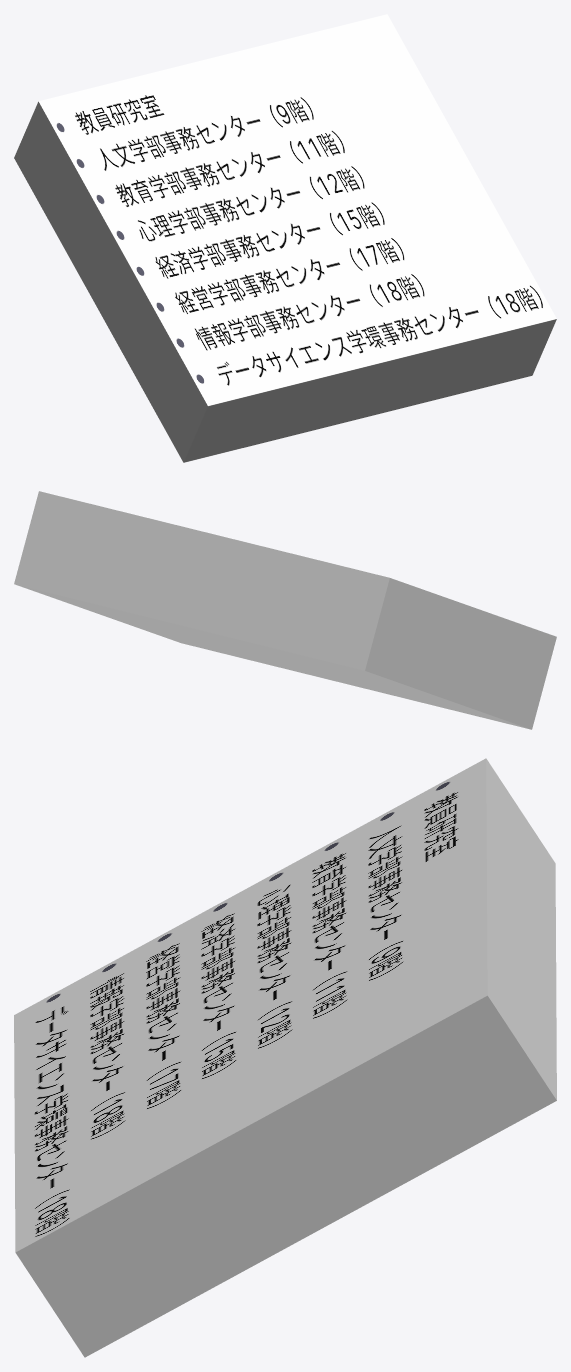
3 renders of one model, top to bottom at view 1: azimuth 30°, elevation 25°; view 2: azimuth 150°, elevation 25°; view 3: azimuth 270°, elevation 25°, orthographic. The views are drawn at different scales.
Parts seen in each view (by area): view 1: 立方体; view 2: 立方体; view 3: 立方体.
Part boxes in pixels (bbox=[...]): 立方体: bbox=[14, 14, 556, 462]; 立方体: bbox=[14, 491, 556, 729]; 立方体: bbox=[14, 758, 556, 1357].
Bounding box in the file's own units: 0.5038 × 0.3546 × 0.4803.
2 materials, 1 textured.
